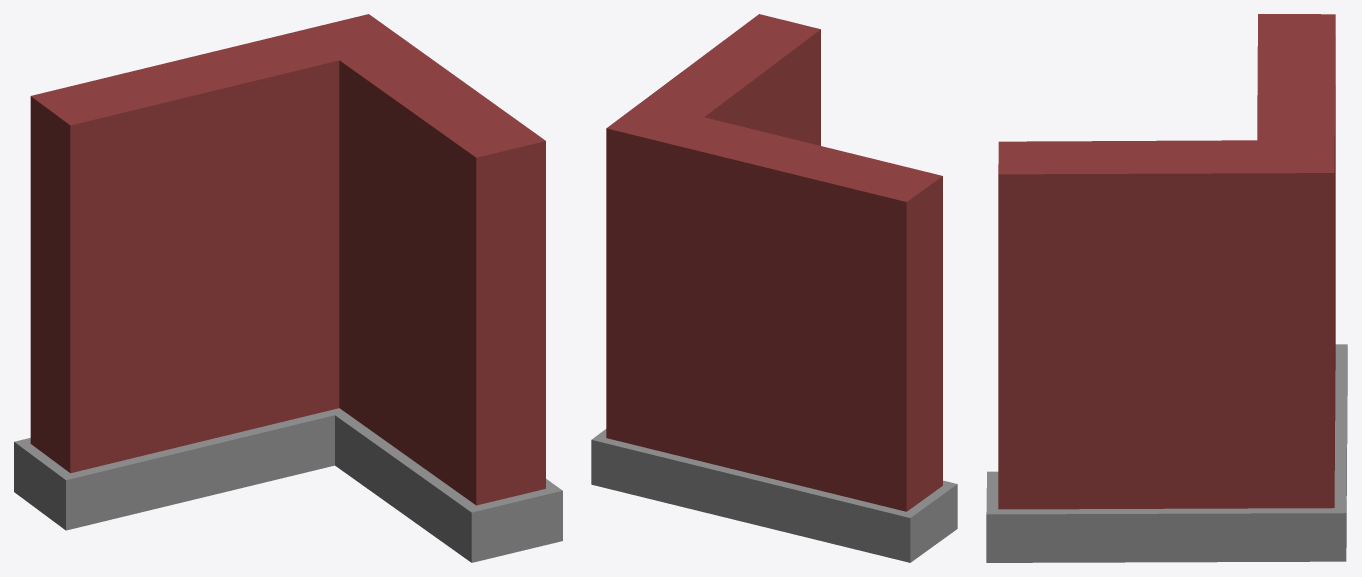
The model's file is qiang01.FBX.
3 renders of one model, left to right at view 1: azimuth 30°, elevation 25°; view 2: azimuth 150°, elevation 25°; view 3: azimuth 270°, elevation 25°, orthographic. The views are drawn at different scales.
Parts seen in each view (by area): view 1: wall_177_0; view 2: wall_177_0; view 3: wall_177_0.
Boxes of the visible parts, x1,y1,x2,y2 form: wall_177_0: (14,14,562,562); wall_177_0: (591,14,957,562); wall_177_0: (986,14,1347,562).
Bounding box in the file's own units: 308 × 324 × 277.
